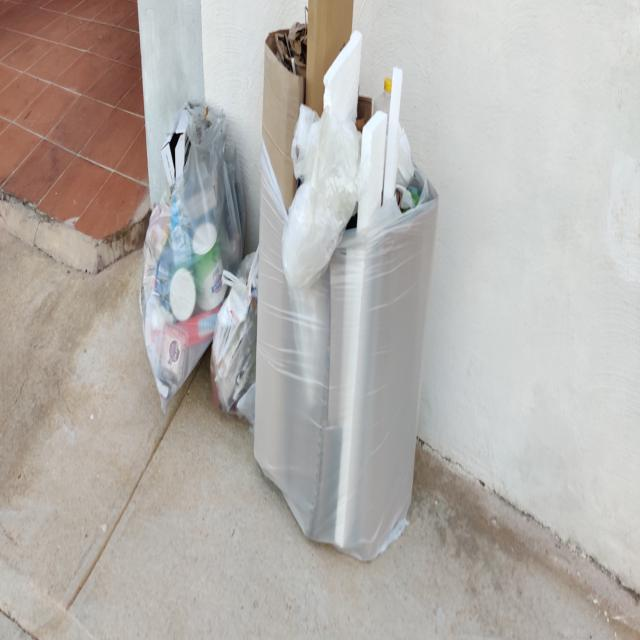Recyclable Material -Grey Bags-: (136, 0, 437, 557)
